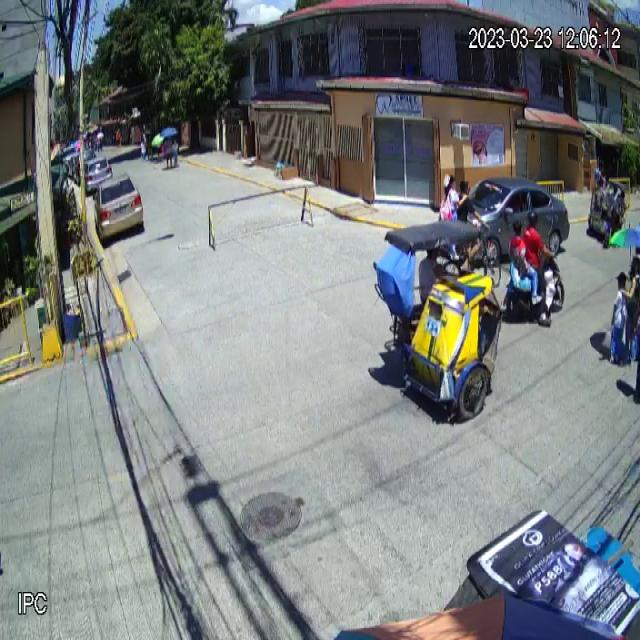Tricycle: (372, 218, 505, 420)
